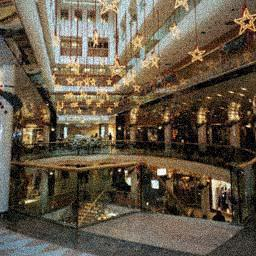Escaleras: (133, 162, 249, 215)
